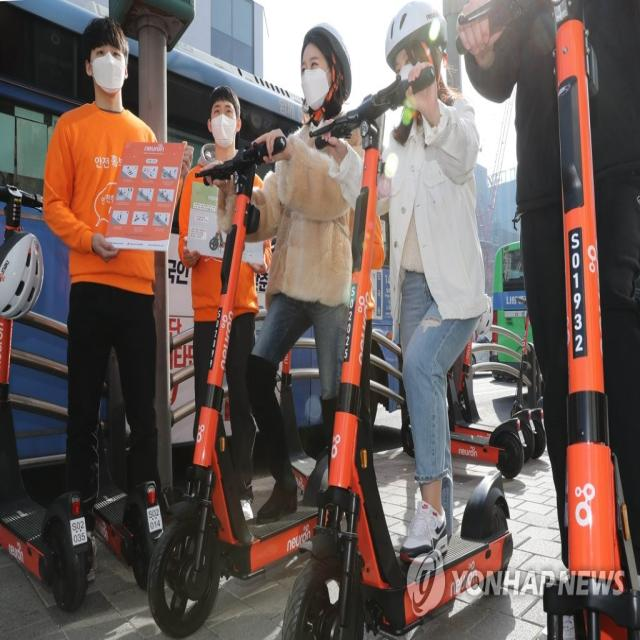helmet: (278, 0, 517, 640), (146, 16, 368, 640)
